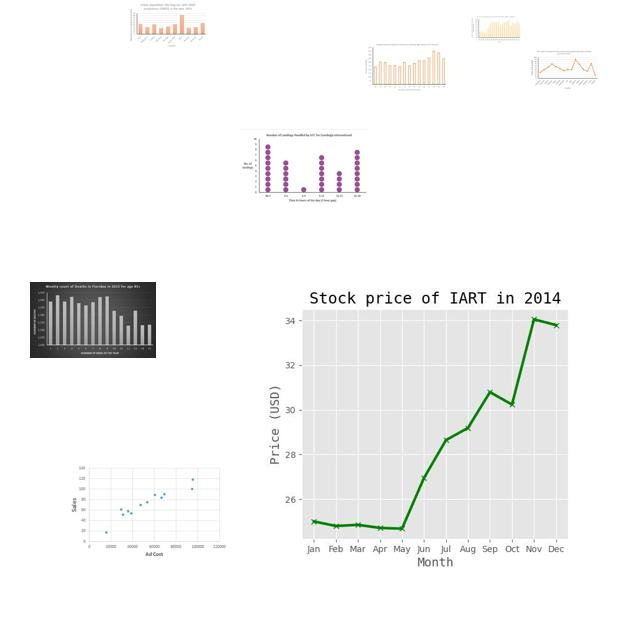Graph: (231, 273, 629, 572), (70, 465, 229, 560), (238, 129, 369, 206), (30, 282, 156, 358), (363, 41, 448, 93), (129, 2, 207, 48), (529, 49, 598, 91), (471, 15, 521, 43)
